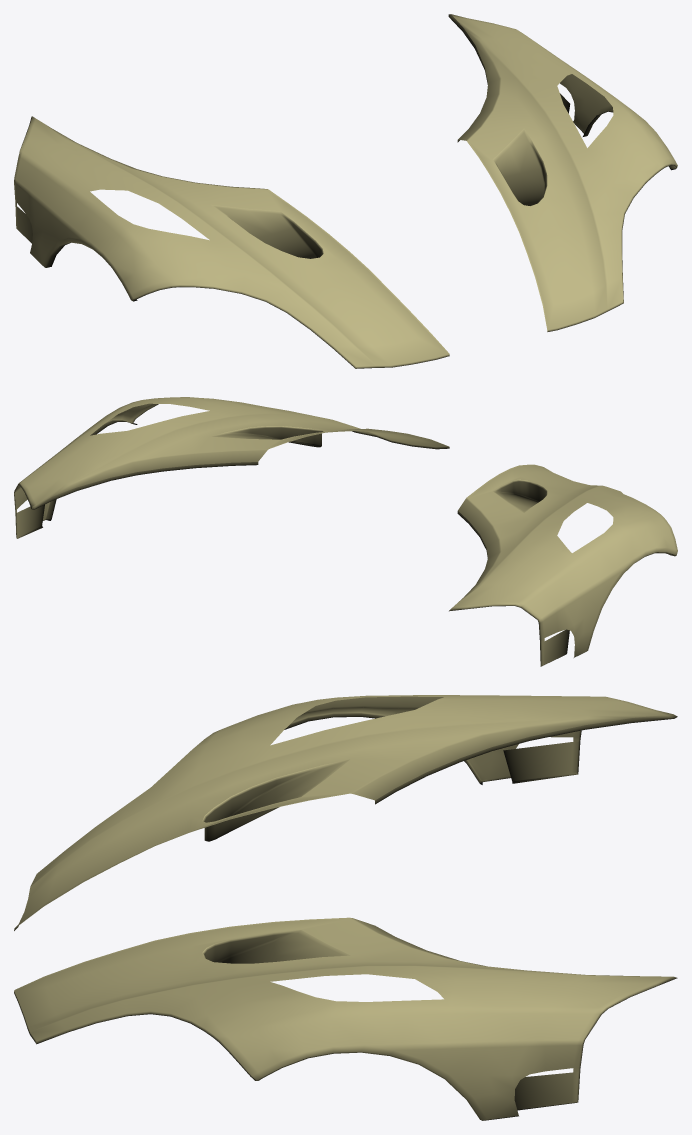
The model's file is Agera_Hood_02_Duco.fbx.
3 views of the same model, one above another, from view 1: azimuth 30°, elevation 25°; view 2: azimuth 150°, elevation 25°; view 3: azimuth 270°, elevation 25° (orthographic). The views are drawn at different scales.
Visible parts, largest first — view 1: Agera_Hood_02_Duco; view 2: Agera_Hood_02_Duco; view 3: Agera_Hood_02_Duco.
Boxes of the visible parts, x1,y1,x2,y2 form: Agera_Hood_02_Duco: (14,14,677,368); Agera_Hood_02_Duco: (14,397,677,666); Agera_Hood_02_Duco: (14,695,677,1120).
Bounding box in the file's own units: 195 × 32.41 × 160.
